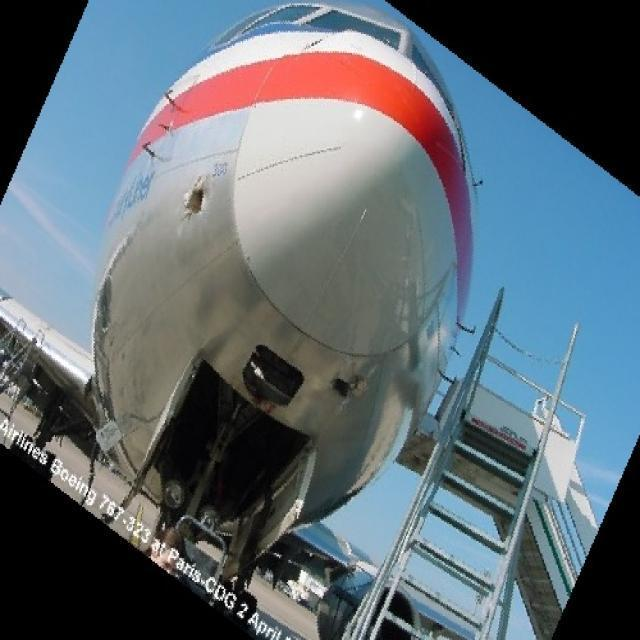dent: (183, 173, 219, 226), (321, 365, 361, 403)
